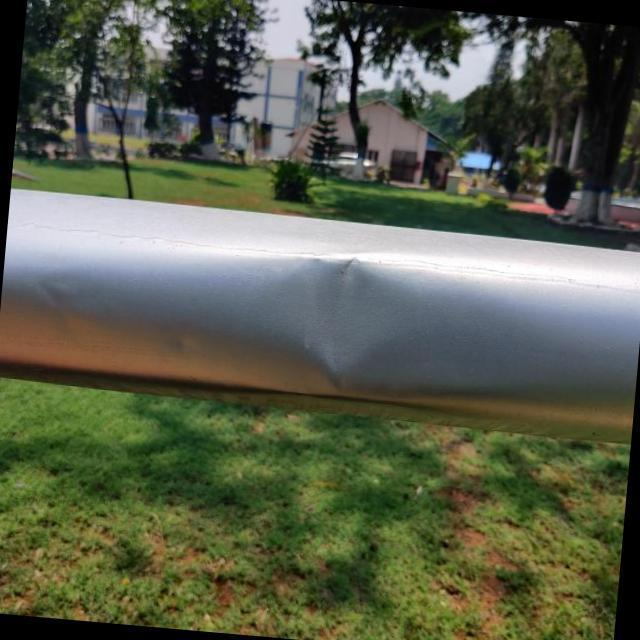Dent: (258, 232, 425, 414)
